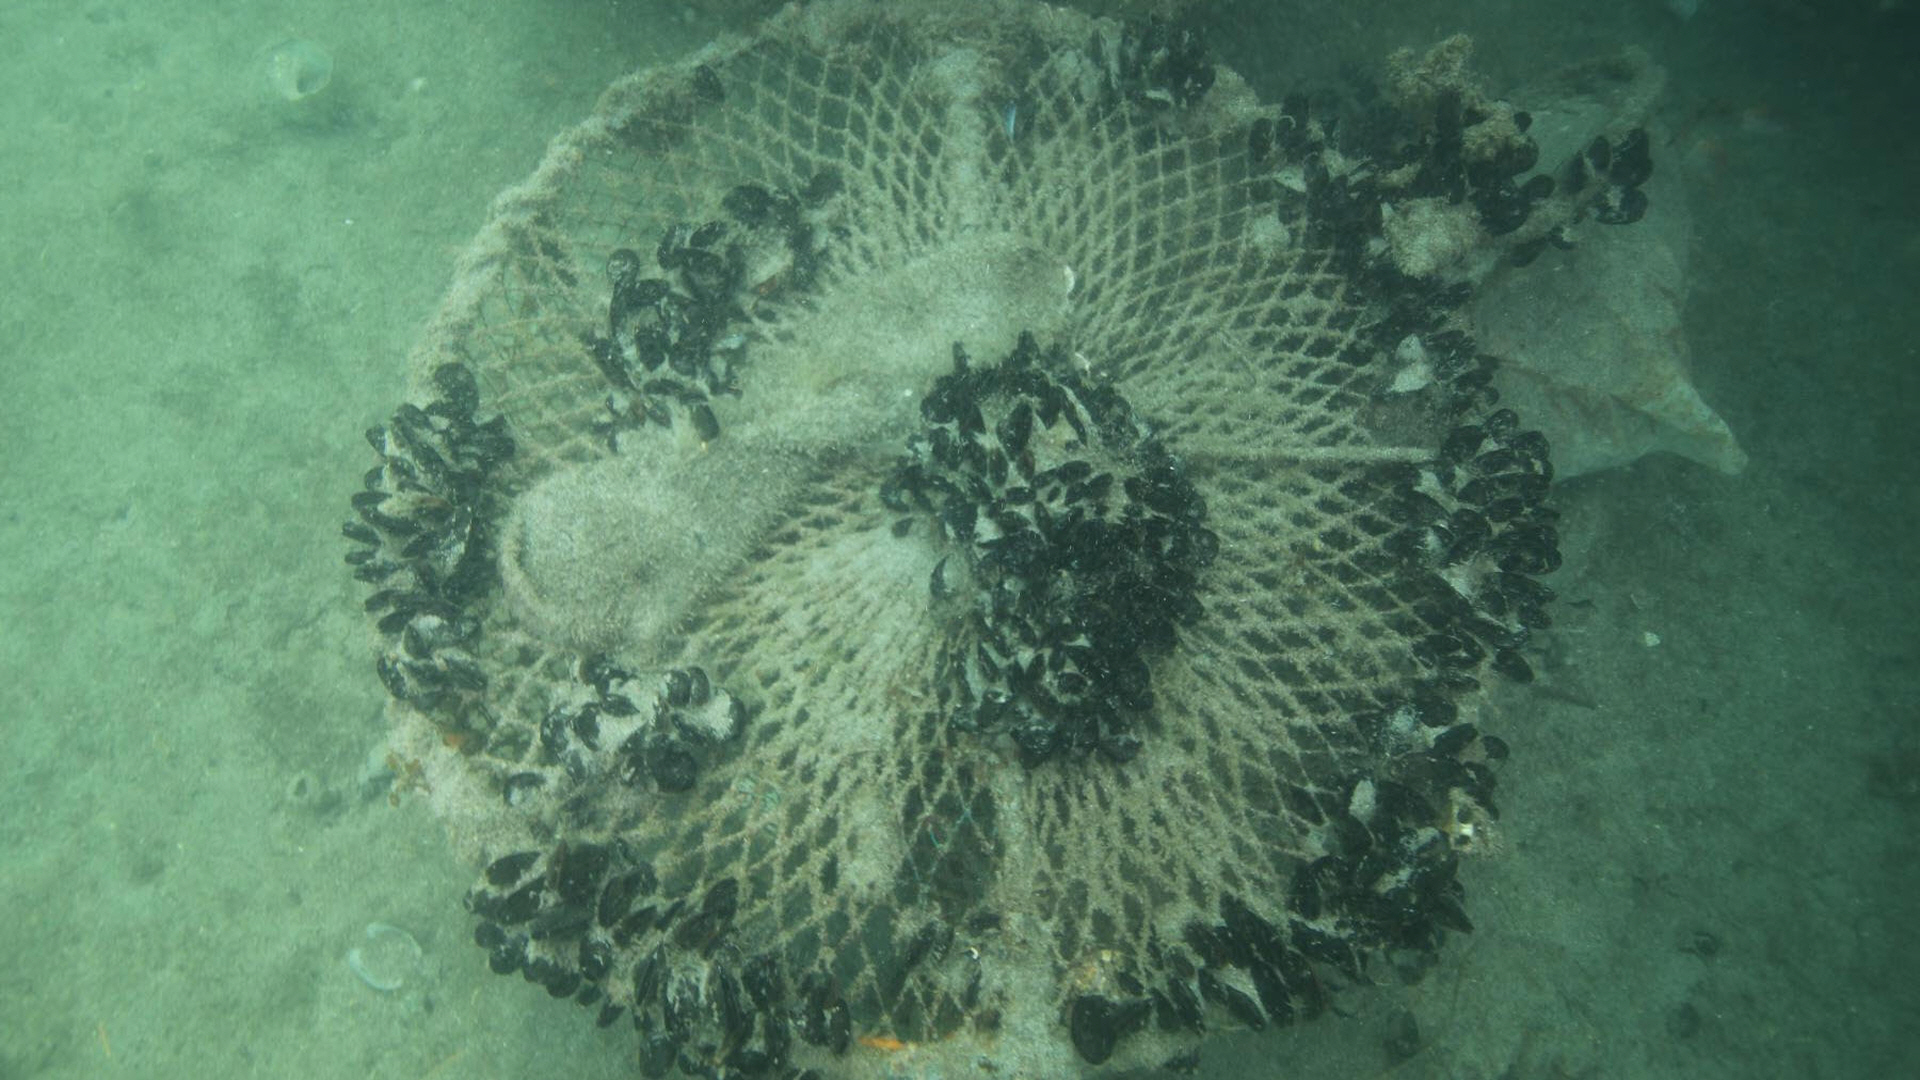circular fish trap: (407, 0, 1396, 1080)
